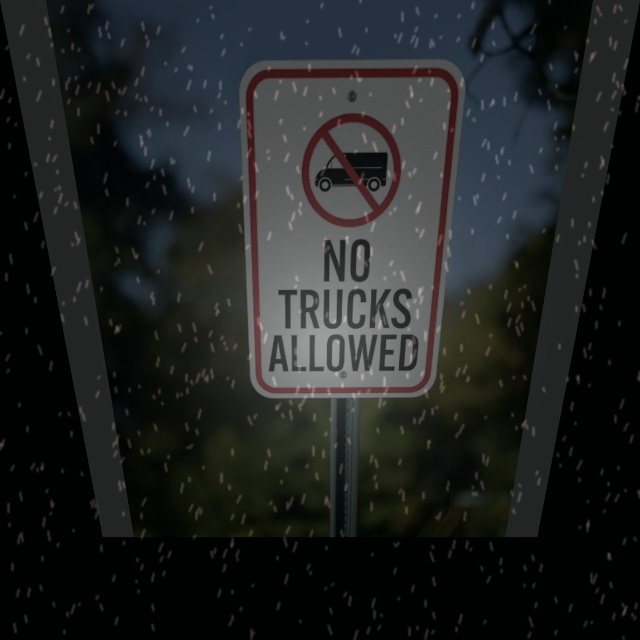Truck_Prohibited: (282, 98, 440, 234)
